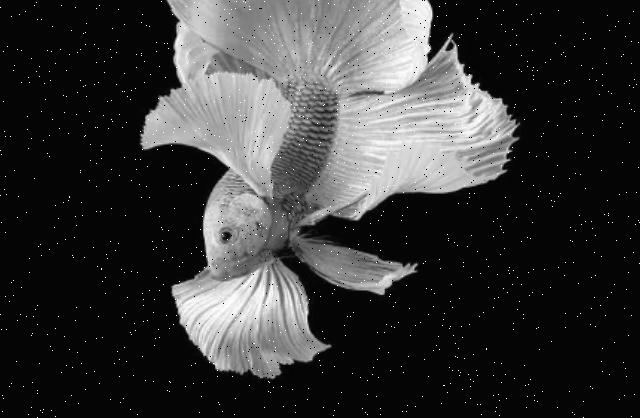Mulut: (192, 232, 264, 294)
Sirip Dada: (126, 58, 318, 210), (163, 243, 347, 387)
Sirip Perut: (278, 144, 440, 326)
